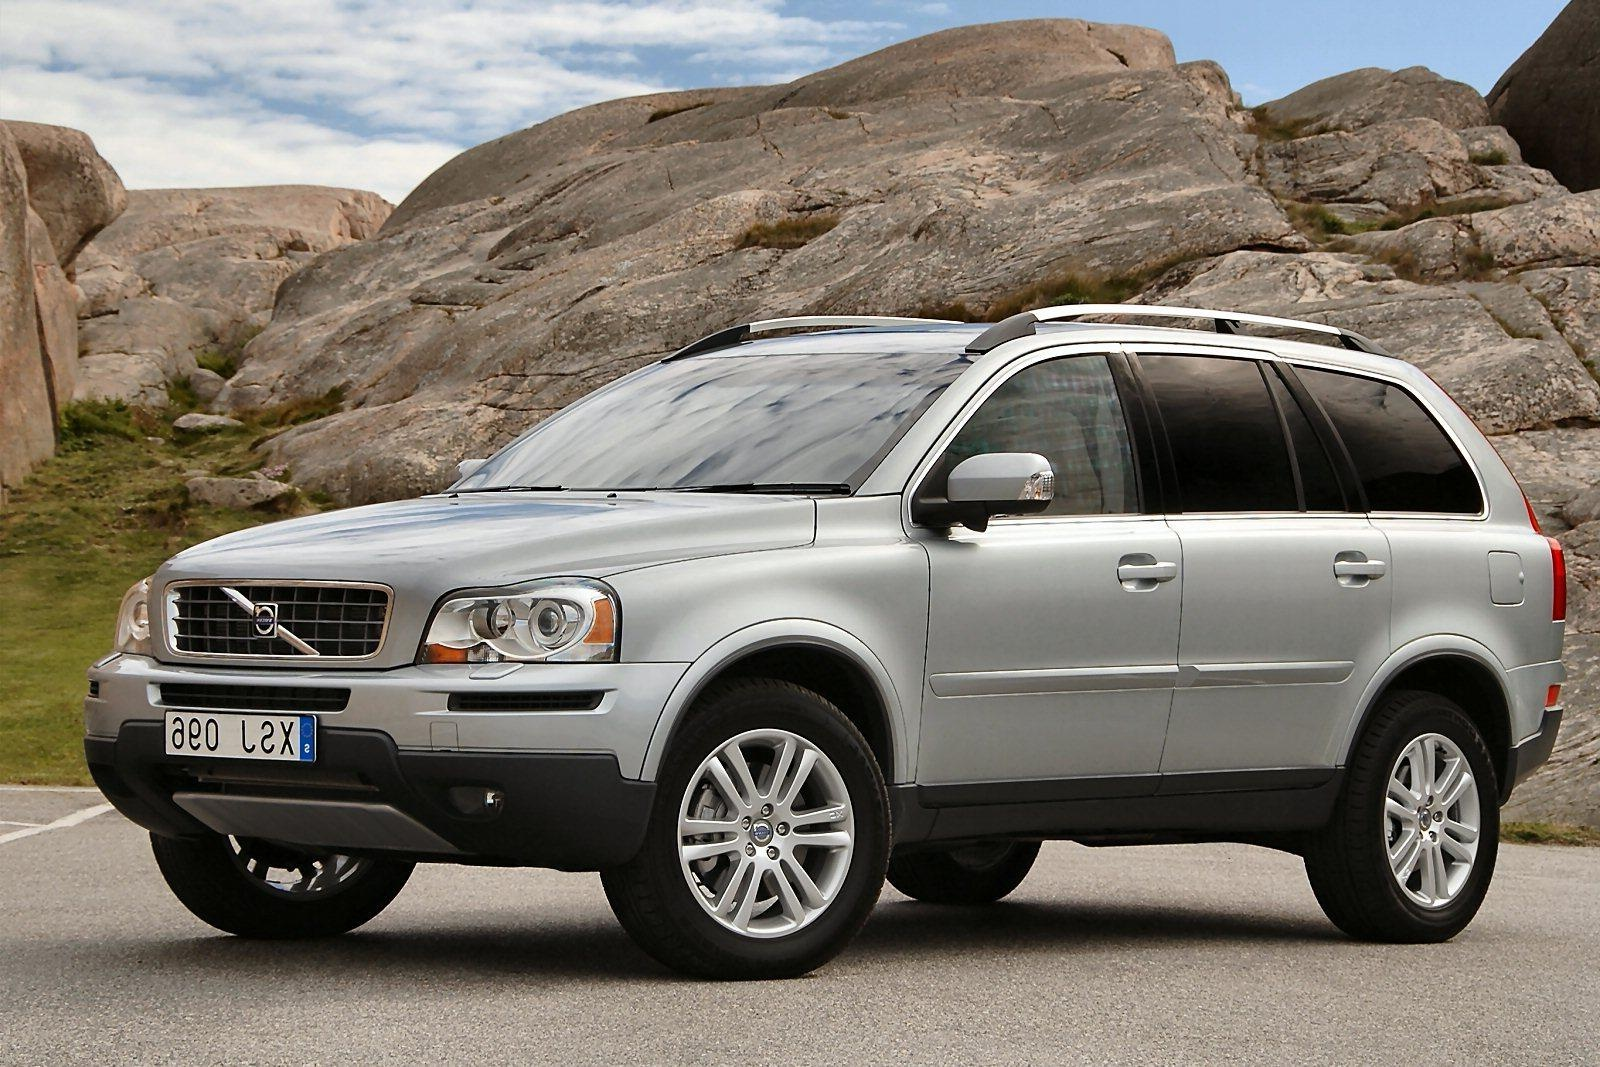car: (5, 191, 1586, 1000)
